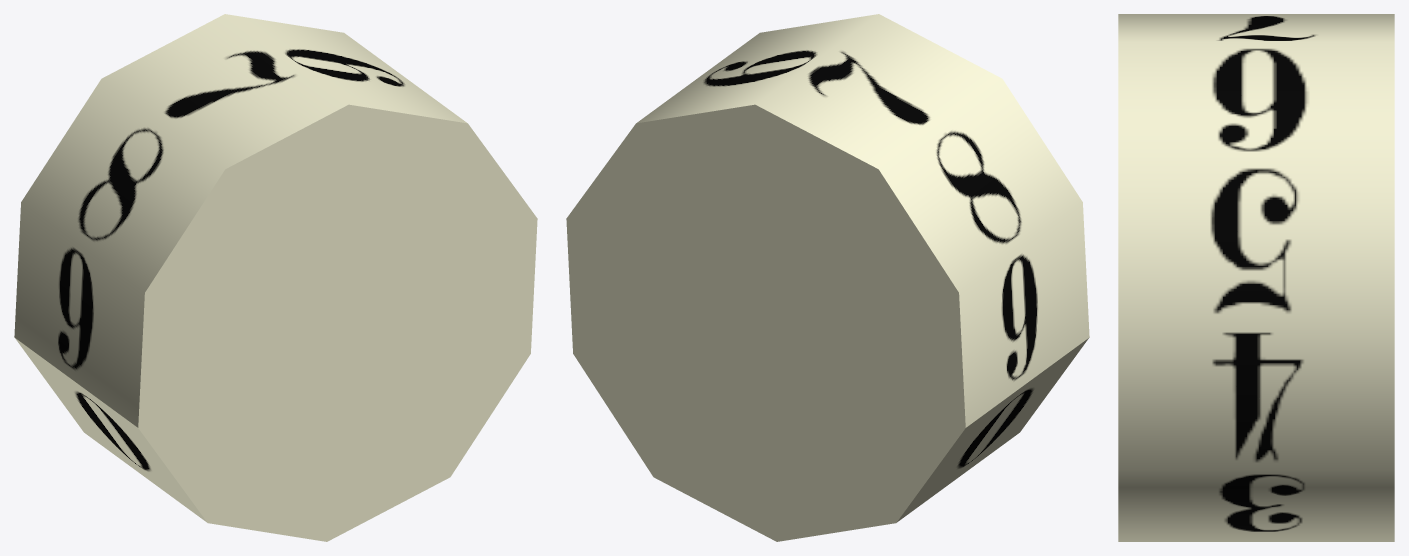
The model's file is Dial.FBX.
The picture shows the model from 3 angles, left to right: view 1: azimuth 30°, elevation 25°; view 2: azimuth 150°, elevation 25°; view 3: azimuth 270°, elevation 25°; orthographic projection. The views are drawn at different scales.
Visible parts, largest first — view 1: Object016; view 2: Object016; view 3: Object016.
Part boxes in pixels (left/top/right/bottom): Object016: left=14, top=14, right=537, bottom=541; Object016: left=566, top=14, right=1089, bottom=541; Object016: left=1118, top=14, right=1394, bottom=541.
Bounding box in the file's own units: 0.222 × 0.2296 × 0.1192.
